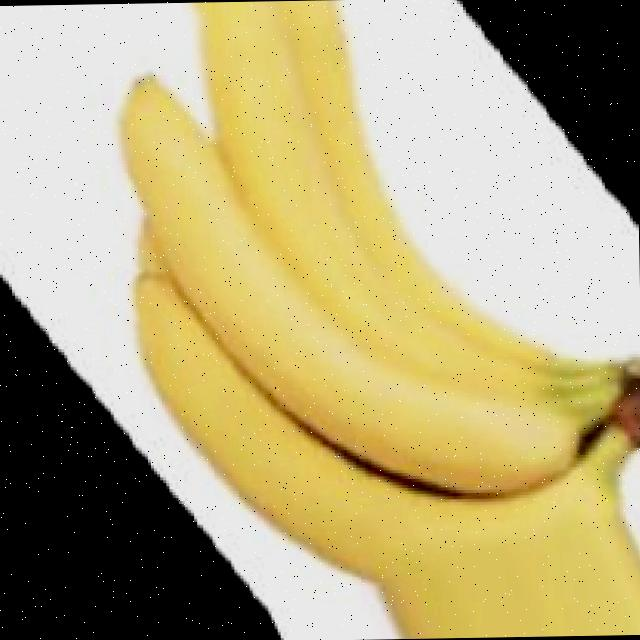banana: (97, 0, 640, 555)
